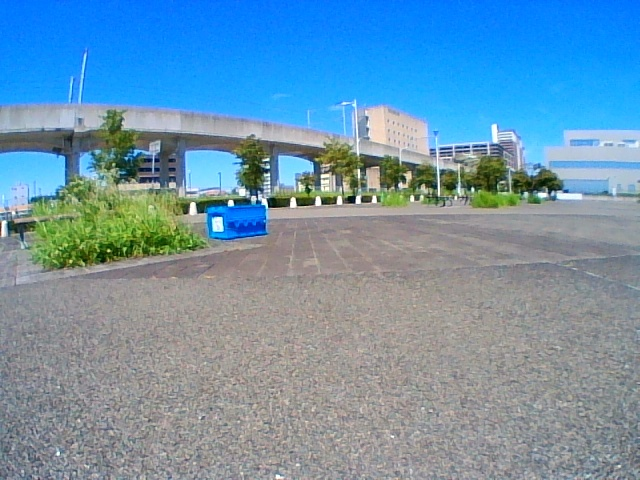blue_box: (209, 206, 267, 239)
tag: (213, 217, 223, 231)
